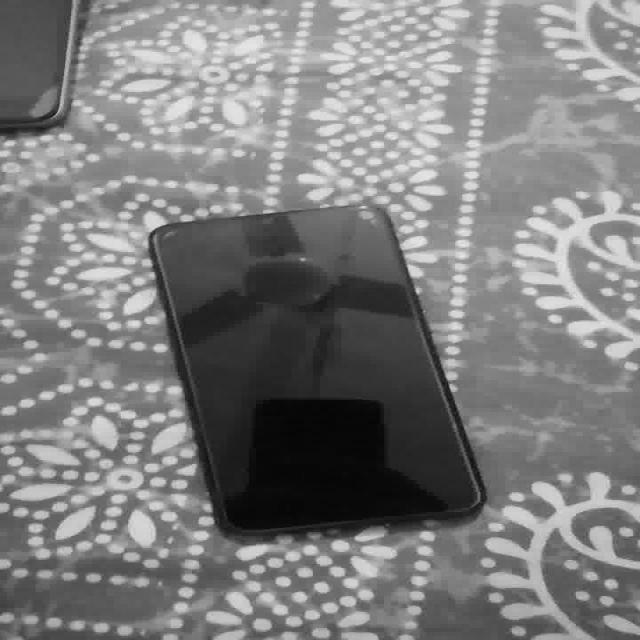fake: (146, 201, 485, 529), (2, 0, 100, 122)
